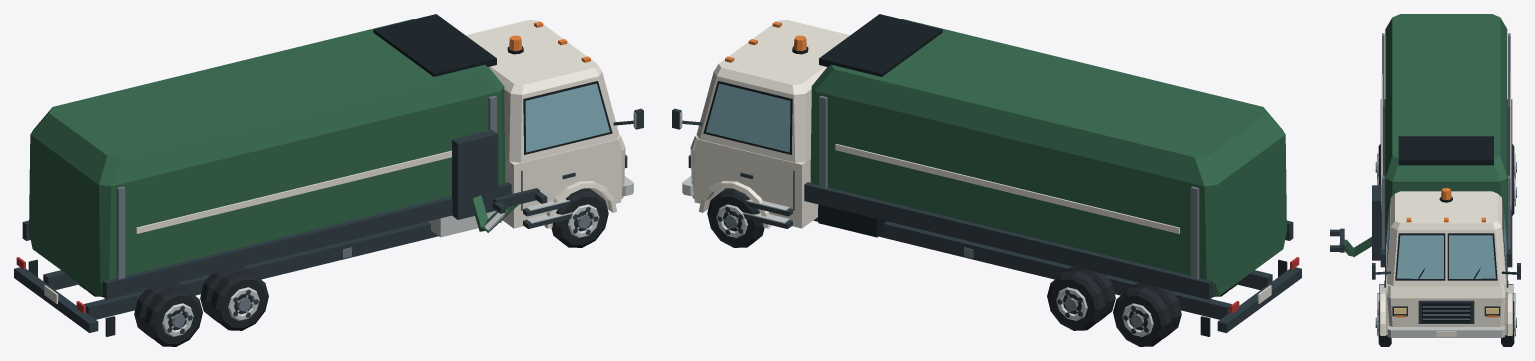
The model's file is b15_automated_side_loader_refuse_truck.glb.
3 renders of one model, left to right at view 1: azimuth 30°, elevation 25°; view 2: azimuth 150°, elevation 25°; view 3: azimuth 270°, elevation 25°, orthographic. The views are drawn at different scales.
Parts seen in each view (by area): view 1: b15_automated_side_loader_refuse_truck; view 2: b15_automated_side_loader_refuse_truck; view 3: b15_automated_side_loader_refuse_truck.
Part boxes in pixels (x1=…): b15_automated_side_loader_refuse_truck: x1=14, y1=14, x2=643, y2=346; b15_automated_side_loader_refuse_truck: x1=672, y1=14, x2=1301, y2=346; b15_automated_side_loader_refuse_truck: x1=1330, y1=14, x2=1520, y2=346.
Bounding box in the file's own units: 9.83 × 3.4 × 3.76.
